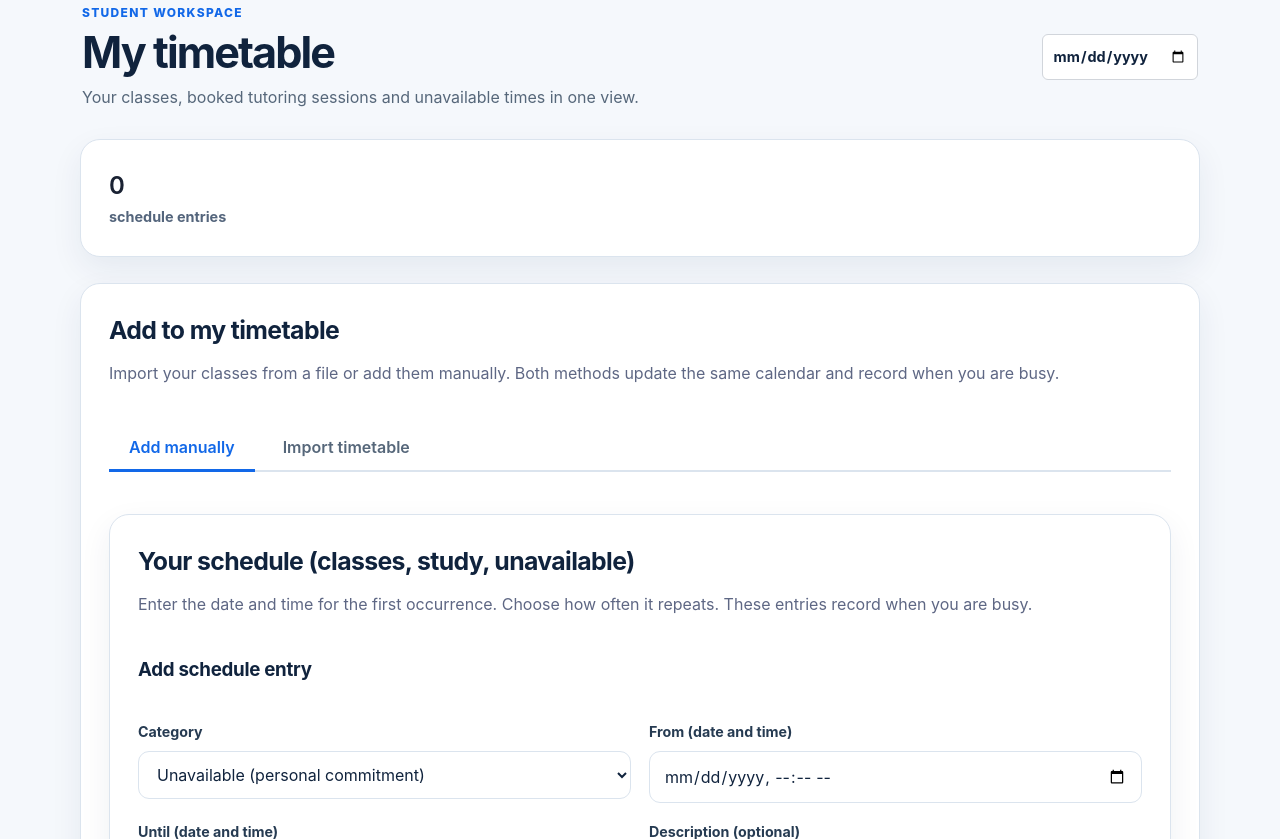
Test case: Student My timetable › saves a fortnightly class and refreshes the calendar
Expected: the heading "My timetable" is shown, [82,26,334,78]
Type "2030-09-02T08:00" into the field with id "starts-at" at (896, 777), box [649,751,1142,803]
(page scrolled)
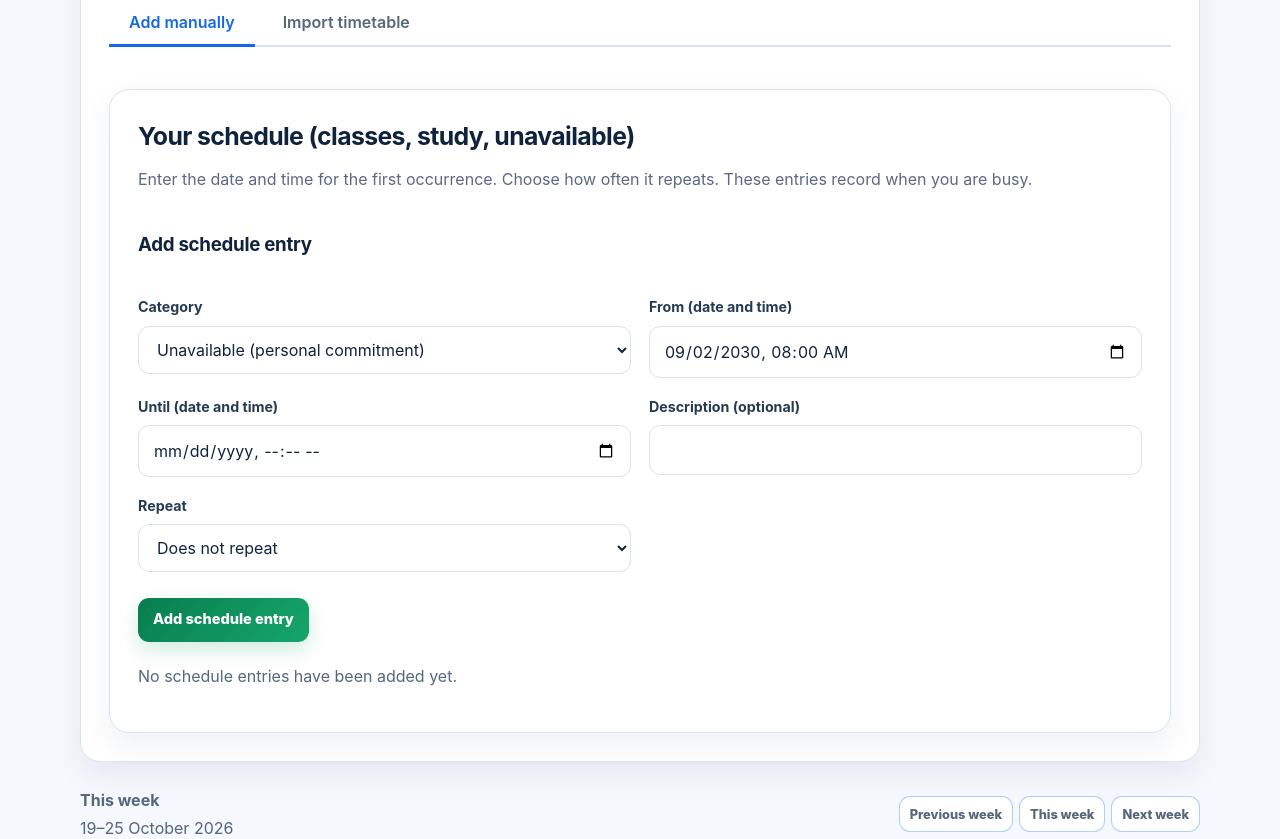
Type "2030-09-02T09:00" into the field with id "ends-at" at (384, 451), box [138,425,631,477]
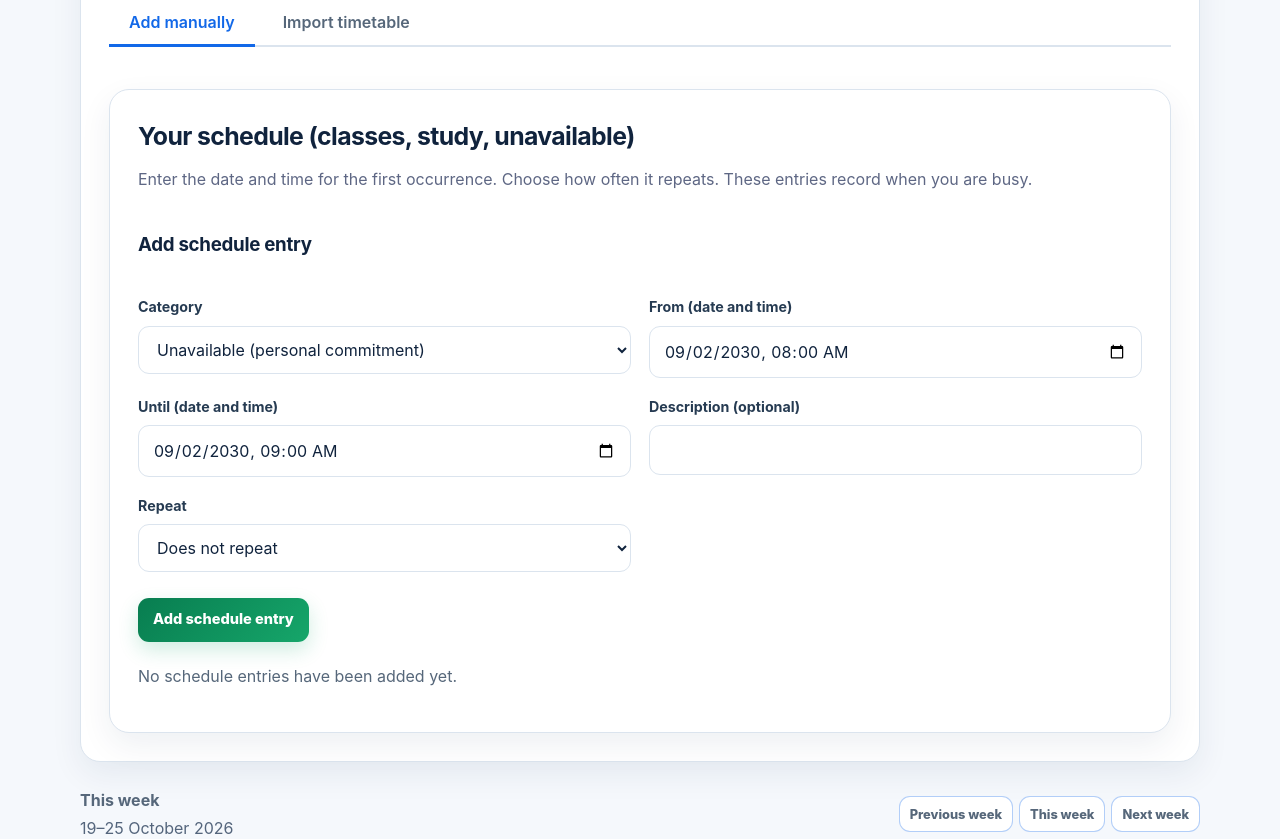
Select "Fortnightly" in the dropdown labelled "Repeat" at (384, 548), box [138,524,631,572]
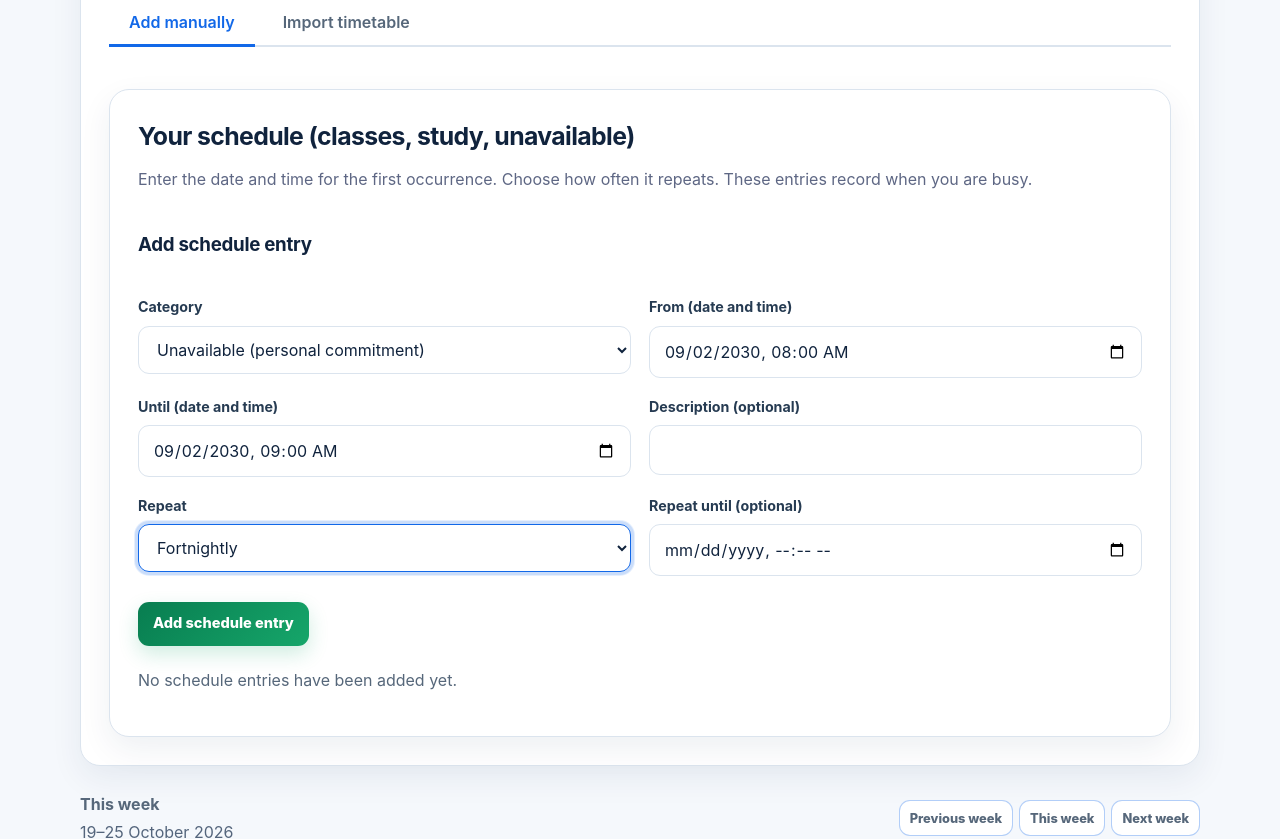
Submit the form, box [138,231,1142,646]
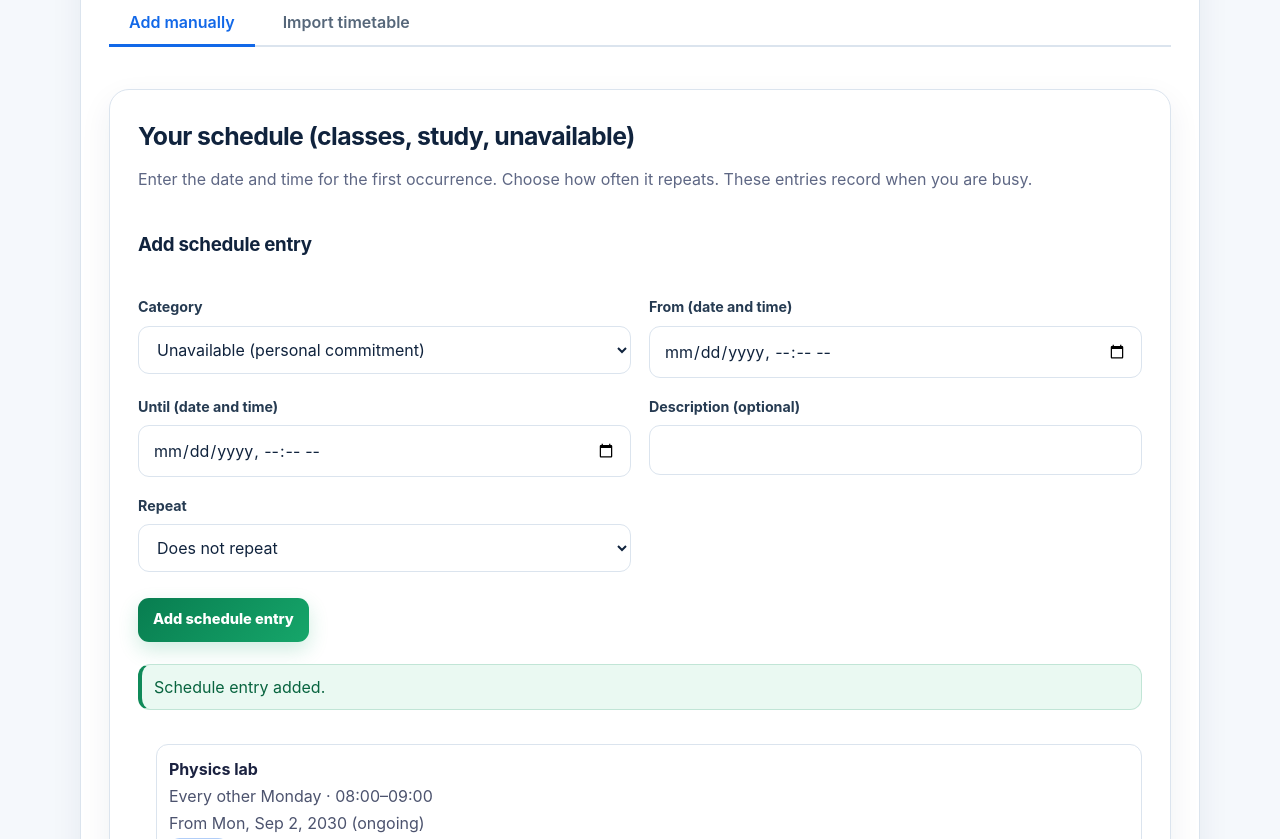
Now the text "Schedule entry added." is shown, box [138,664,1142,710]
